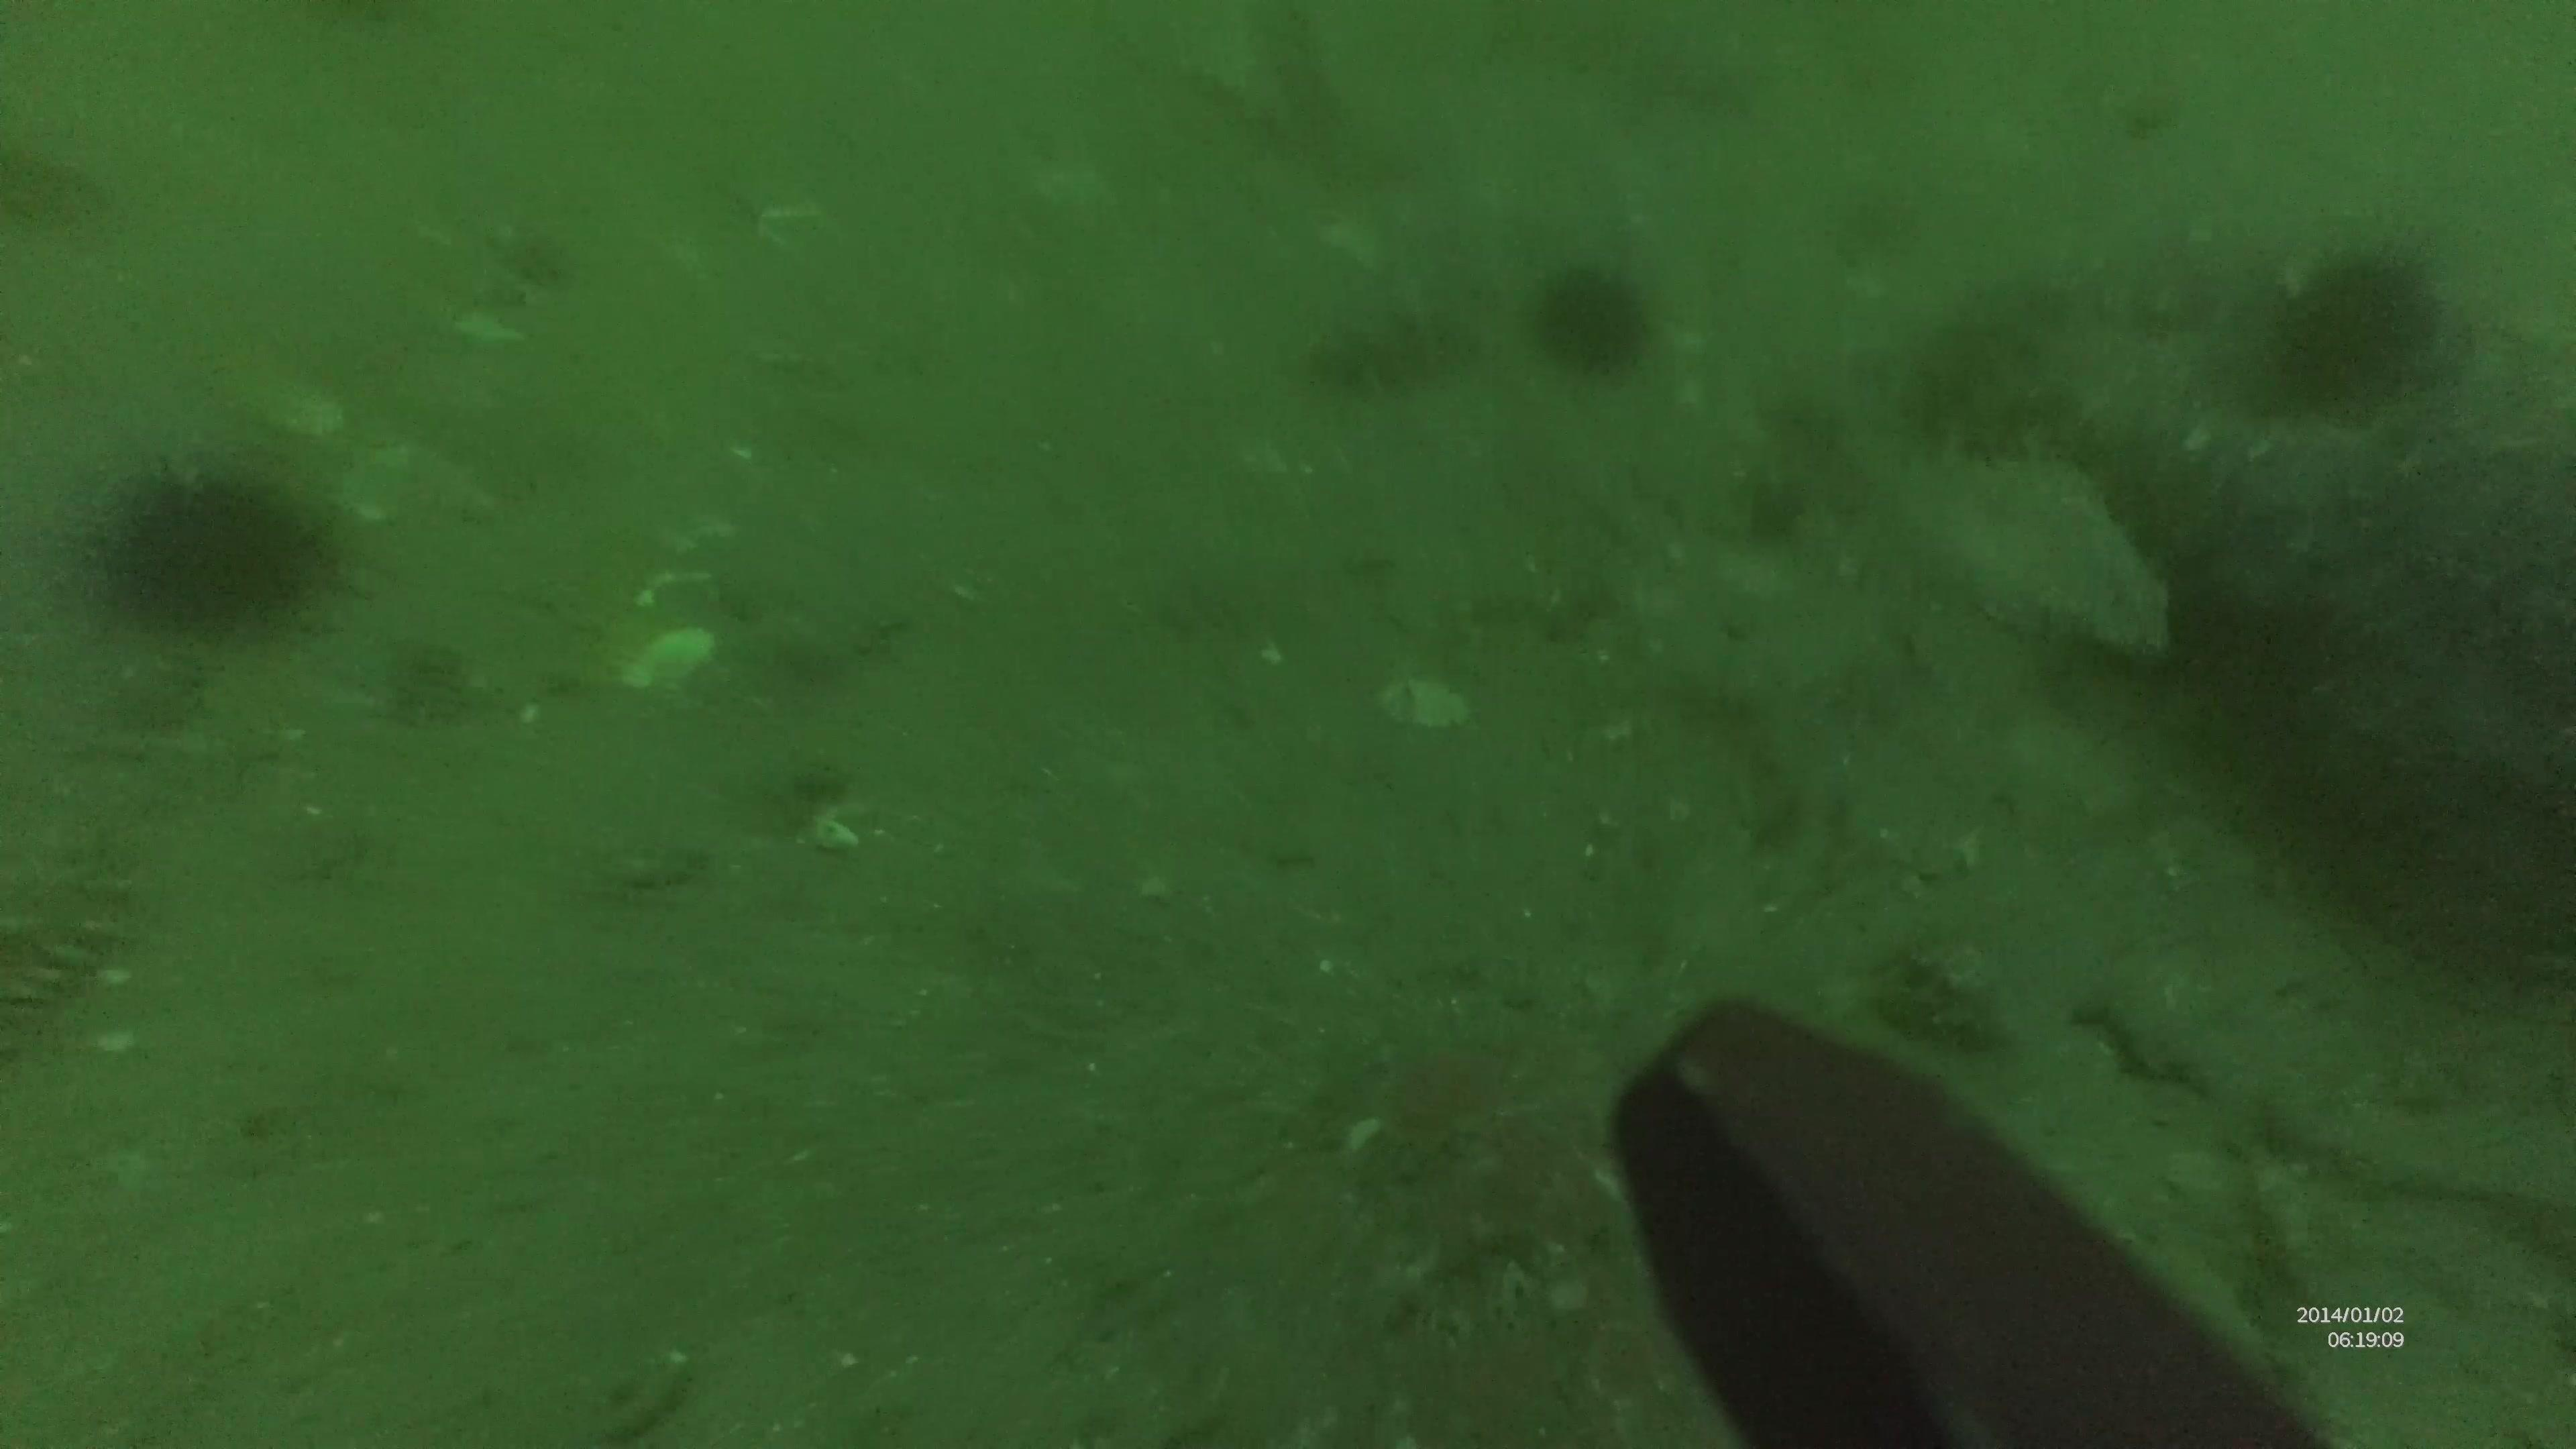echinus: (94, 462, 329, 651), (2282, 230, 2438, 416), (1539, 251, 1651, 382)
